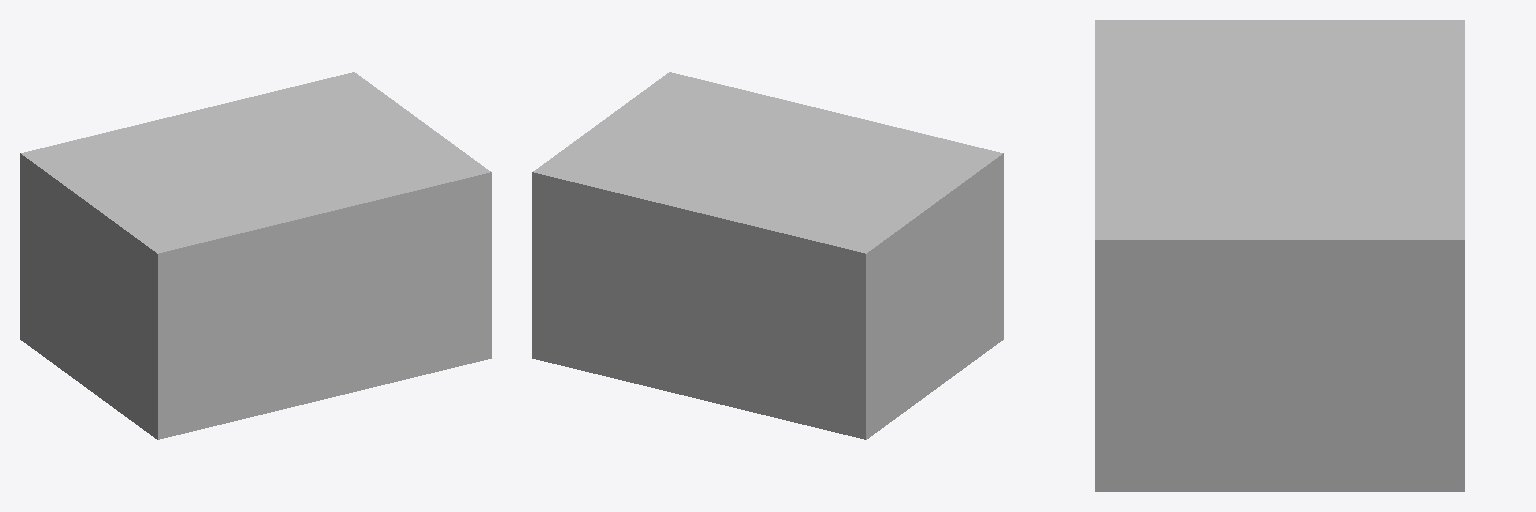
robot.urdf — table_model:
<?xml version="1.0"?>
<robot name="table_model">

  <!-- Link for the table -->
  <link name="table_link">
    <visual>
      <!-- Reference to the Table.obj file -->
      <geometry>
        <mesh filename="Micrmove.obj" scale="1 1 1"/>
      </geometry>
      <material name="gray">
        <color rgba="0.8 0.8 0.8 1"/>
      </material>
    </visual>

    <collision>
      <geometry>
        <mesh filename="Micrmove.obj" scale="1 1 1"/>
      </geometry>
    </collision>

    <inertial>
      <mass value="10.0"/>
      <origin xyz="0 0 0" rpy="0 0 0"/>
      <inertia ixx="0.1" ixy="0.0" ixz="0.0" iyy="0.1" iyz="0.0" izz="0.1"/>
    </inertial>
  </link>


</robot>

--- Facts derived from the render (not from the file) ---
3 views of the same robot in one strip: view 1: azimuth 30°, elevation 25°; view 2: azimuth 150°, elevation 25°; view 3: azimuth 270°, elevation 25° (orthographic).
Robot: table_model — 1 links, 0 joints (none); root link table_link; default pose: all joints at 0.
Visible links, largest first — view 1: table_link; view 2: table_link; view 3: table_link.
Boxes of the visible links, left/top/right/bottom form: table_link: left=20, top=72, right=491, bottom=439; table_link: left=532, top=72, right=1003, bottom=439; table_link: left=1095, top=20, right=1464, bottom=491.
Bounding box of the posed robot: 0.45 × 0.32 × 0.24 m (x, y, z).
Meshes: 1 distinct files referenced, 1 mesh visuals loaded (1 OBJ).
